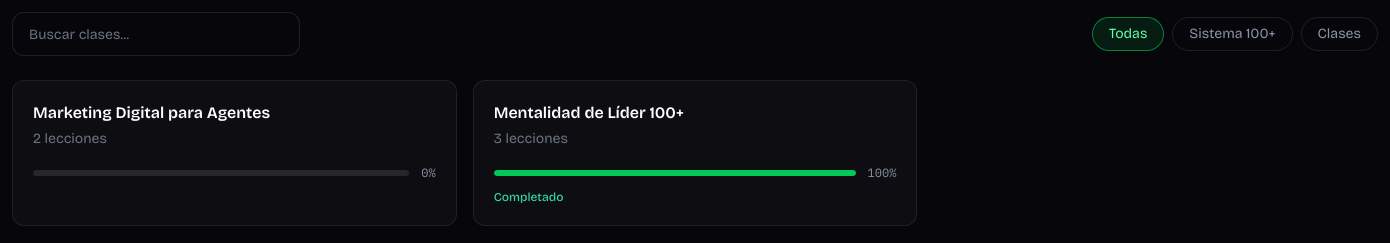
Scenario: ClasesCatalogo › filtra por categoría con los chips
This screenshot has width=1390, height=243.
Click the button "Sistema 100+".
click(1232, 34)  # box left=1172, top=17, right=1292, bottom=51
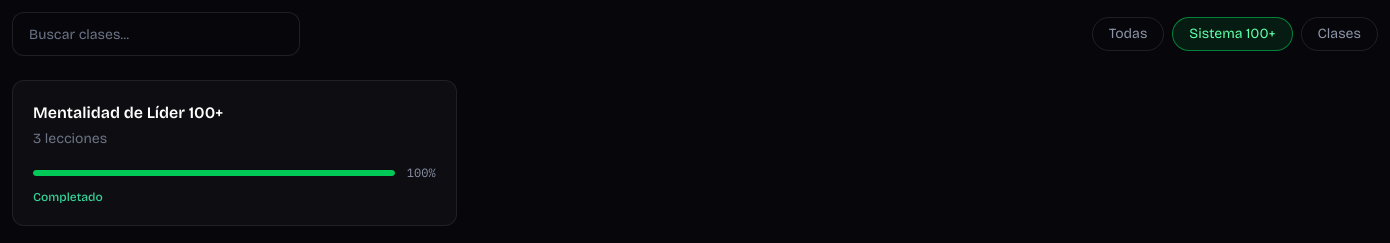
Expected: the heading "Mentalidad de Líder 100+" is shown, left=33, top=103, right=223, bottom=122
Now the link "Marketing Digital para Agentes" is gone
